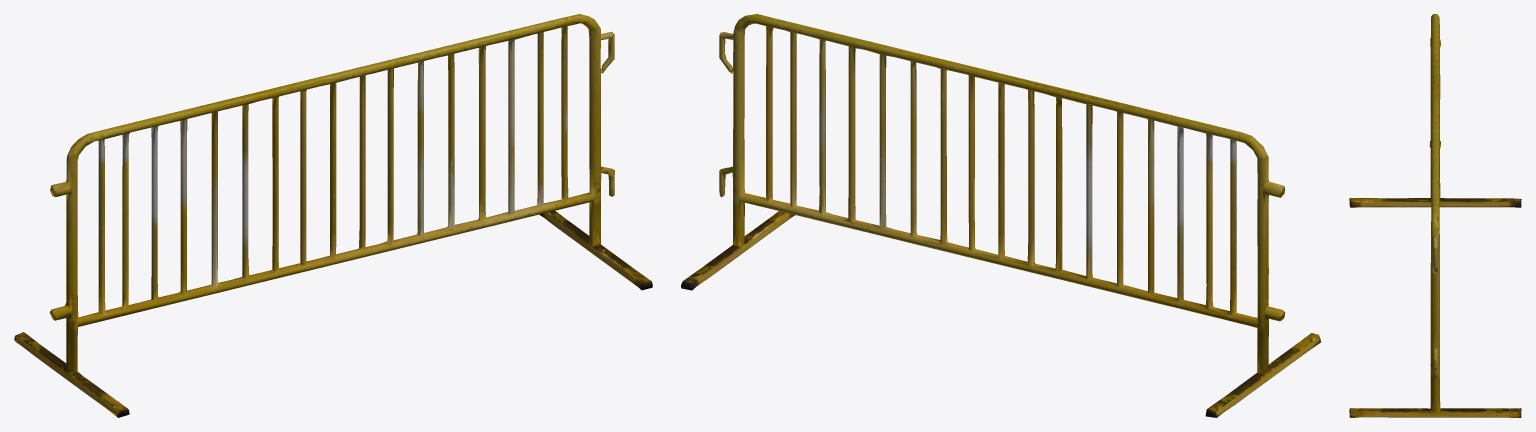
File: barricade_rowing.glb
3 renders of one model, left to right at view 1: azimuth 30°, elevation 25°; view 2: azimuth 150°, elevation 25°; view 3: azimuth 270°, elevation 25°, orthographic. The views are drawn at different scales.
Visible parts, largest first — view 1: tripo_node_49bfa9d5; view 2: tripo_node_49bfa9d5; view 3: tripo_node_49bfa9d5.
Boxes of the visible parts, x1,y1,x2,y2 form: tripo_node_49bfa9d5: (14,14,652,417); tripo_node_49bfa9d5: (681,14,1320,417); tripo_node_49bfa9d5: (1349,14,1521,417).
Size of the model in its own units: 99.99 by 41.04 by 32.25.
Materials: 1 (1 with a texture image).
